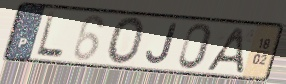0: (177, 22, 214, 71)
6: (71, 13, 109, 63)
A: (204, 26, 246, 74)
J: (145, 22, 180, 66)
L: (34, 10, 66, 60)
O: (105, 15, 146, 67)
